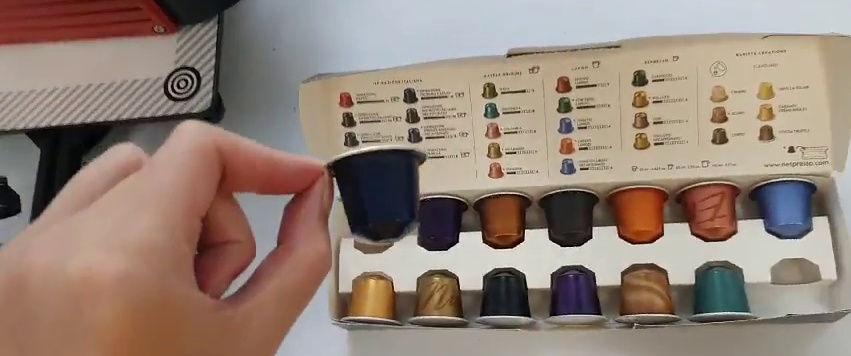capsule_1: (324, 144, 428, 241)
